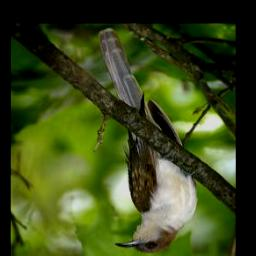Cuckoo: (97, 29, 200, 255)
